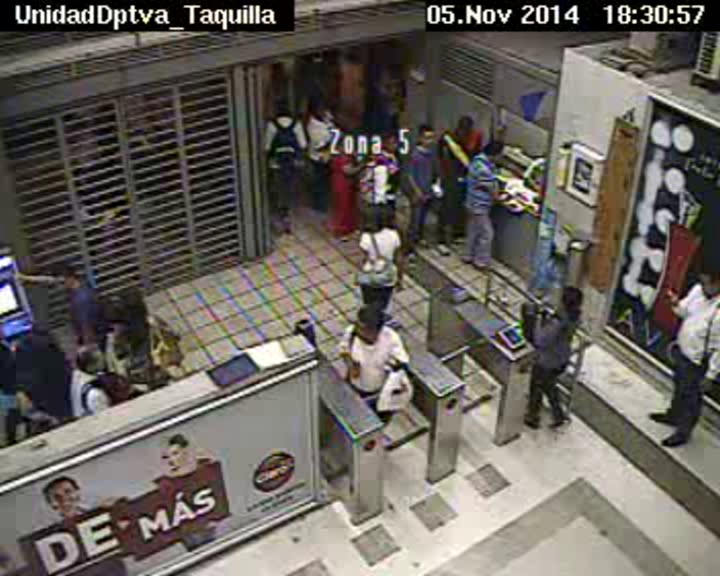person: (24, 333, 64, 373), (351, 305, 386, 341), (116, 287, 147, 319), (73, 344, 105, 374), (557, 283, 588, 312), (52, 262, 82, 290), (695, 266, 720, 299), (414, 121, 439, 151), (365, 203, 391, 231), (305, 89, 330, 117), (379, 130, 403, 155), (454, 115, 477, 139), (483, 136, 504, 161), (334, 131, 356, 152), (274, 95, 295, 117), (270, 64, 286, 80), (376, 70, 391, 86), (367, 50, 380, 64)
